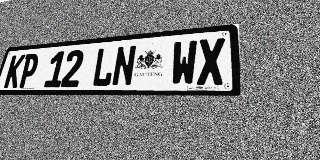1: (44, 51, 68, 87)
2: (60, 49, 85, 87)
K: (3, 54, 26, 88)
L: (91, 47, 116, 87)
N: (111, 45, 137, 86)
P: (17, 53, 40, 88)
W: (170, 40, 198, 86)
X: (197, 37, 225, 85)
